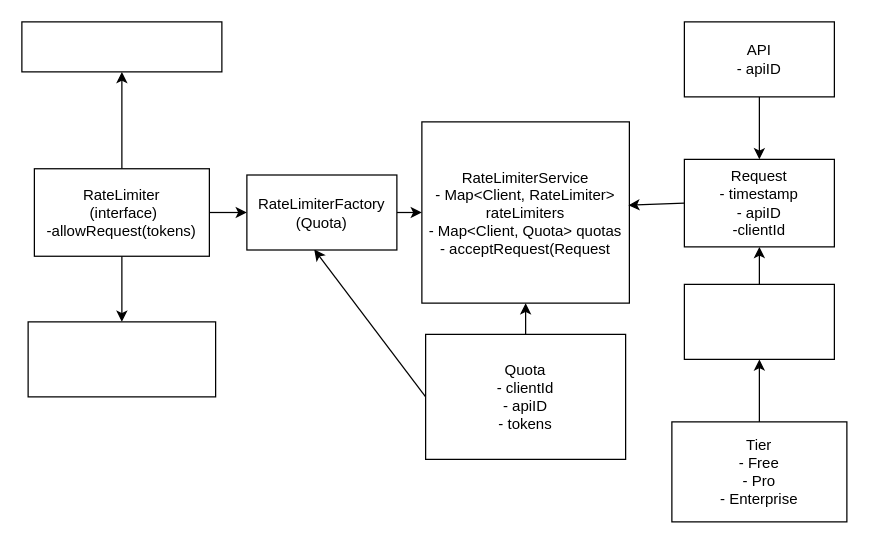
Image size: 869x544. Some labels were removed from this diagram. The centre of each missing label's shape, as x and y in pixels:
Client - clientId: the point at 758,321
SlidingWindowRateLimiter: the point at 121,359
TokenBucketRateLimiter: the point at 121,46
